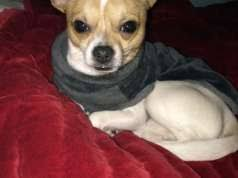chihuahua: (38, 1, 238, 163)
